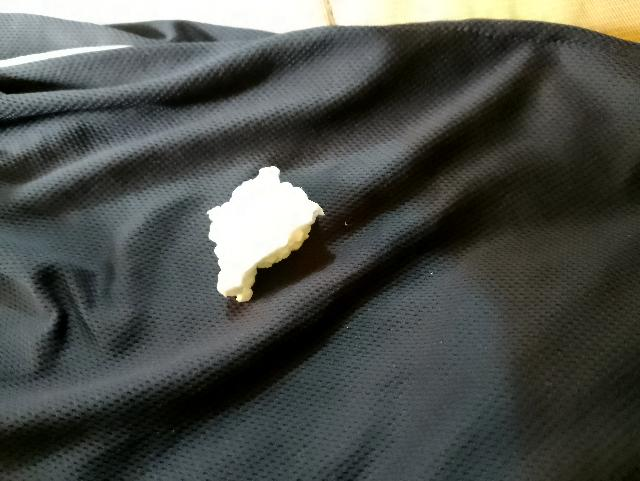cocksheet: (212, 174, 320, 299)
